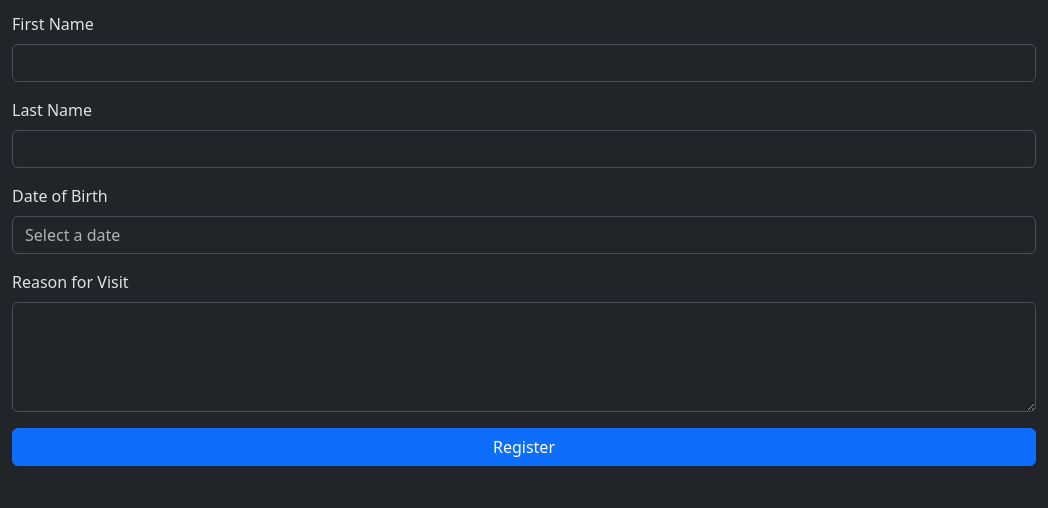
Test: RegistrationForm › client-side validation › displays error on blur when a single field is invalid
Step 1. Click the field labelled "First Name" → click(524, 63), box [12, 44, 1036, 82]
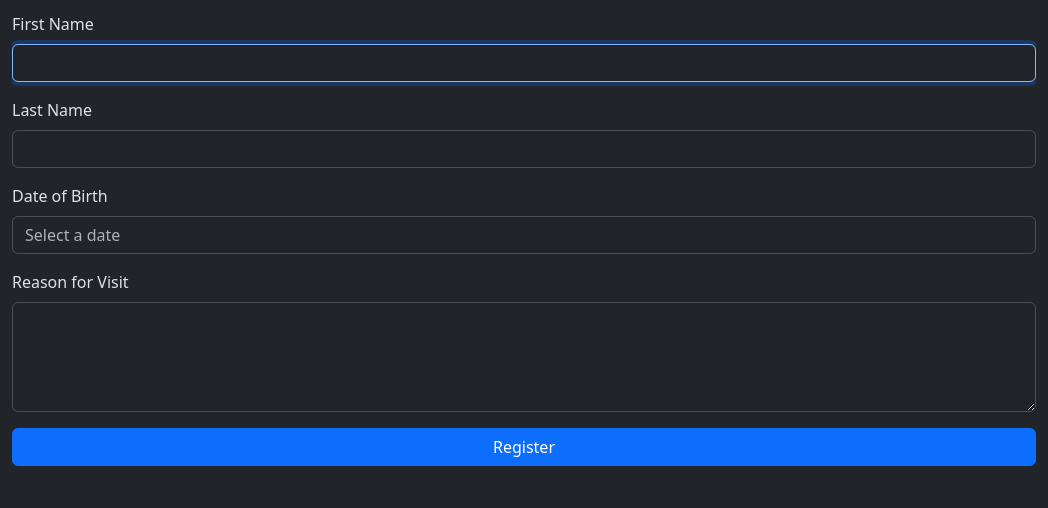
Step 2. Press Tab
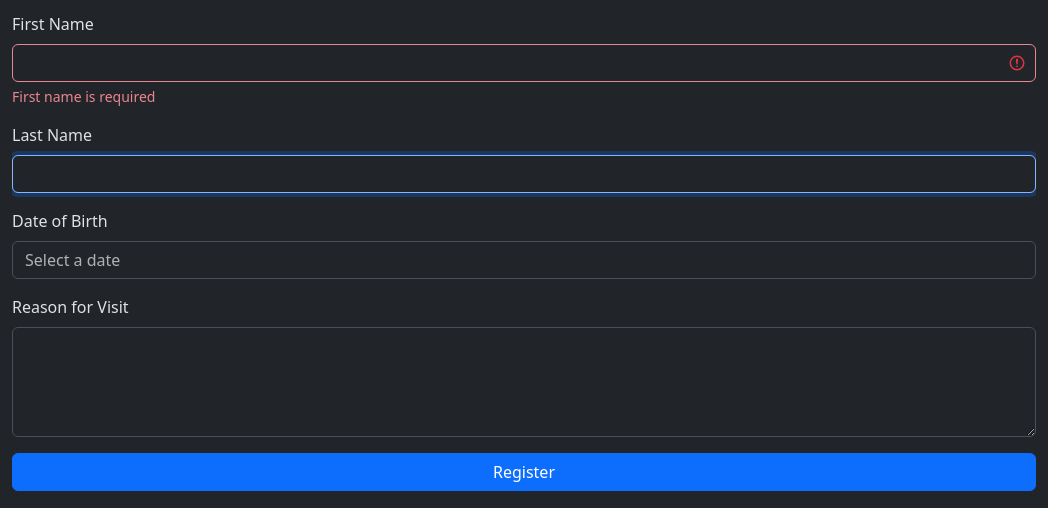
Result: the text "First name is required" is shown at [12, 87, 155, 106]
